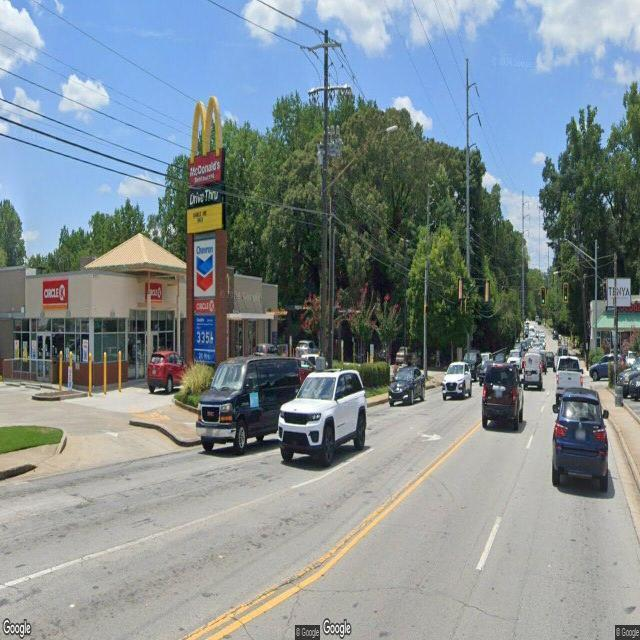trash_can: (615, 385, 623, 407)
